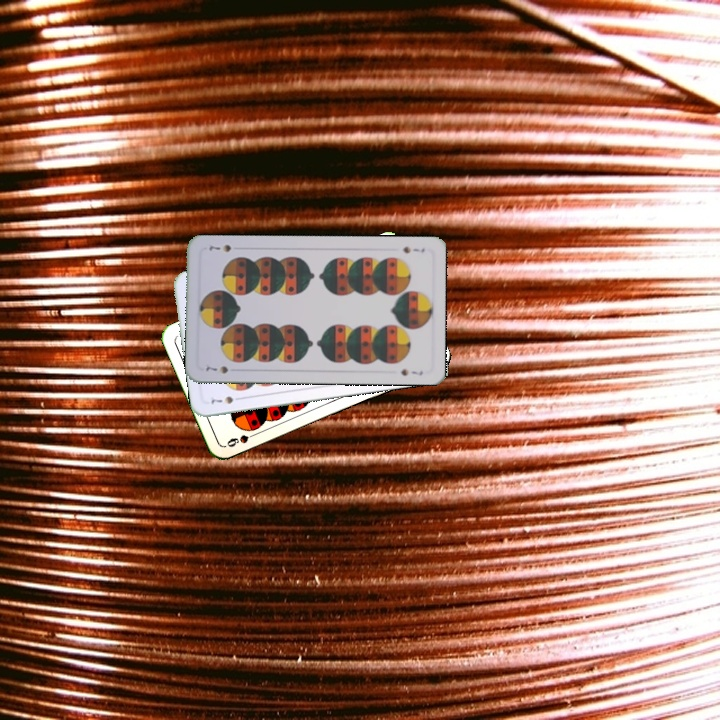S7: (207, 392, 245, 406), (202, 362, 230, 376), (399, 243, 427, 256)
S9: (223, 427, 262, 450)
